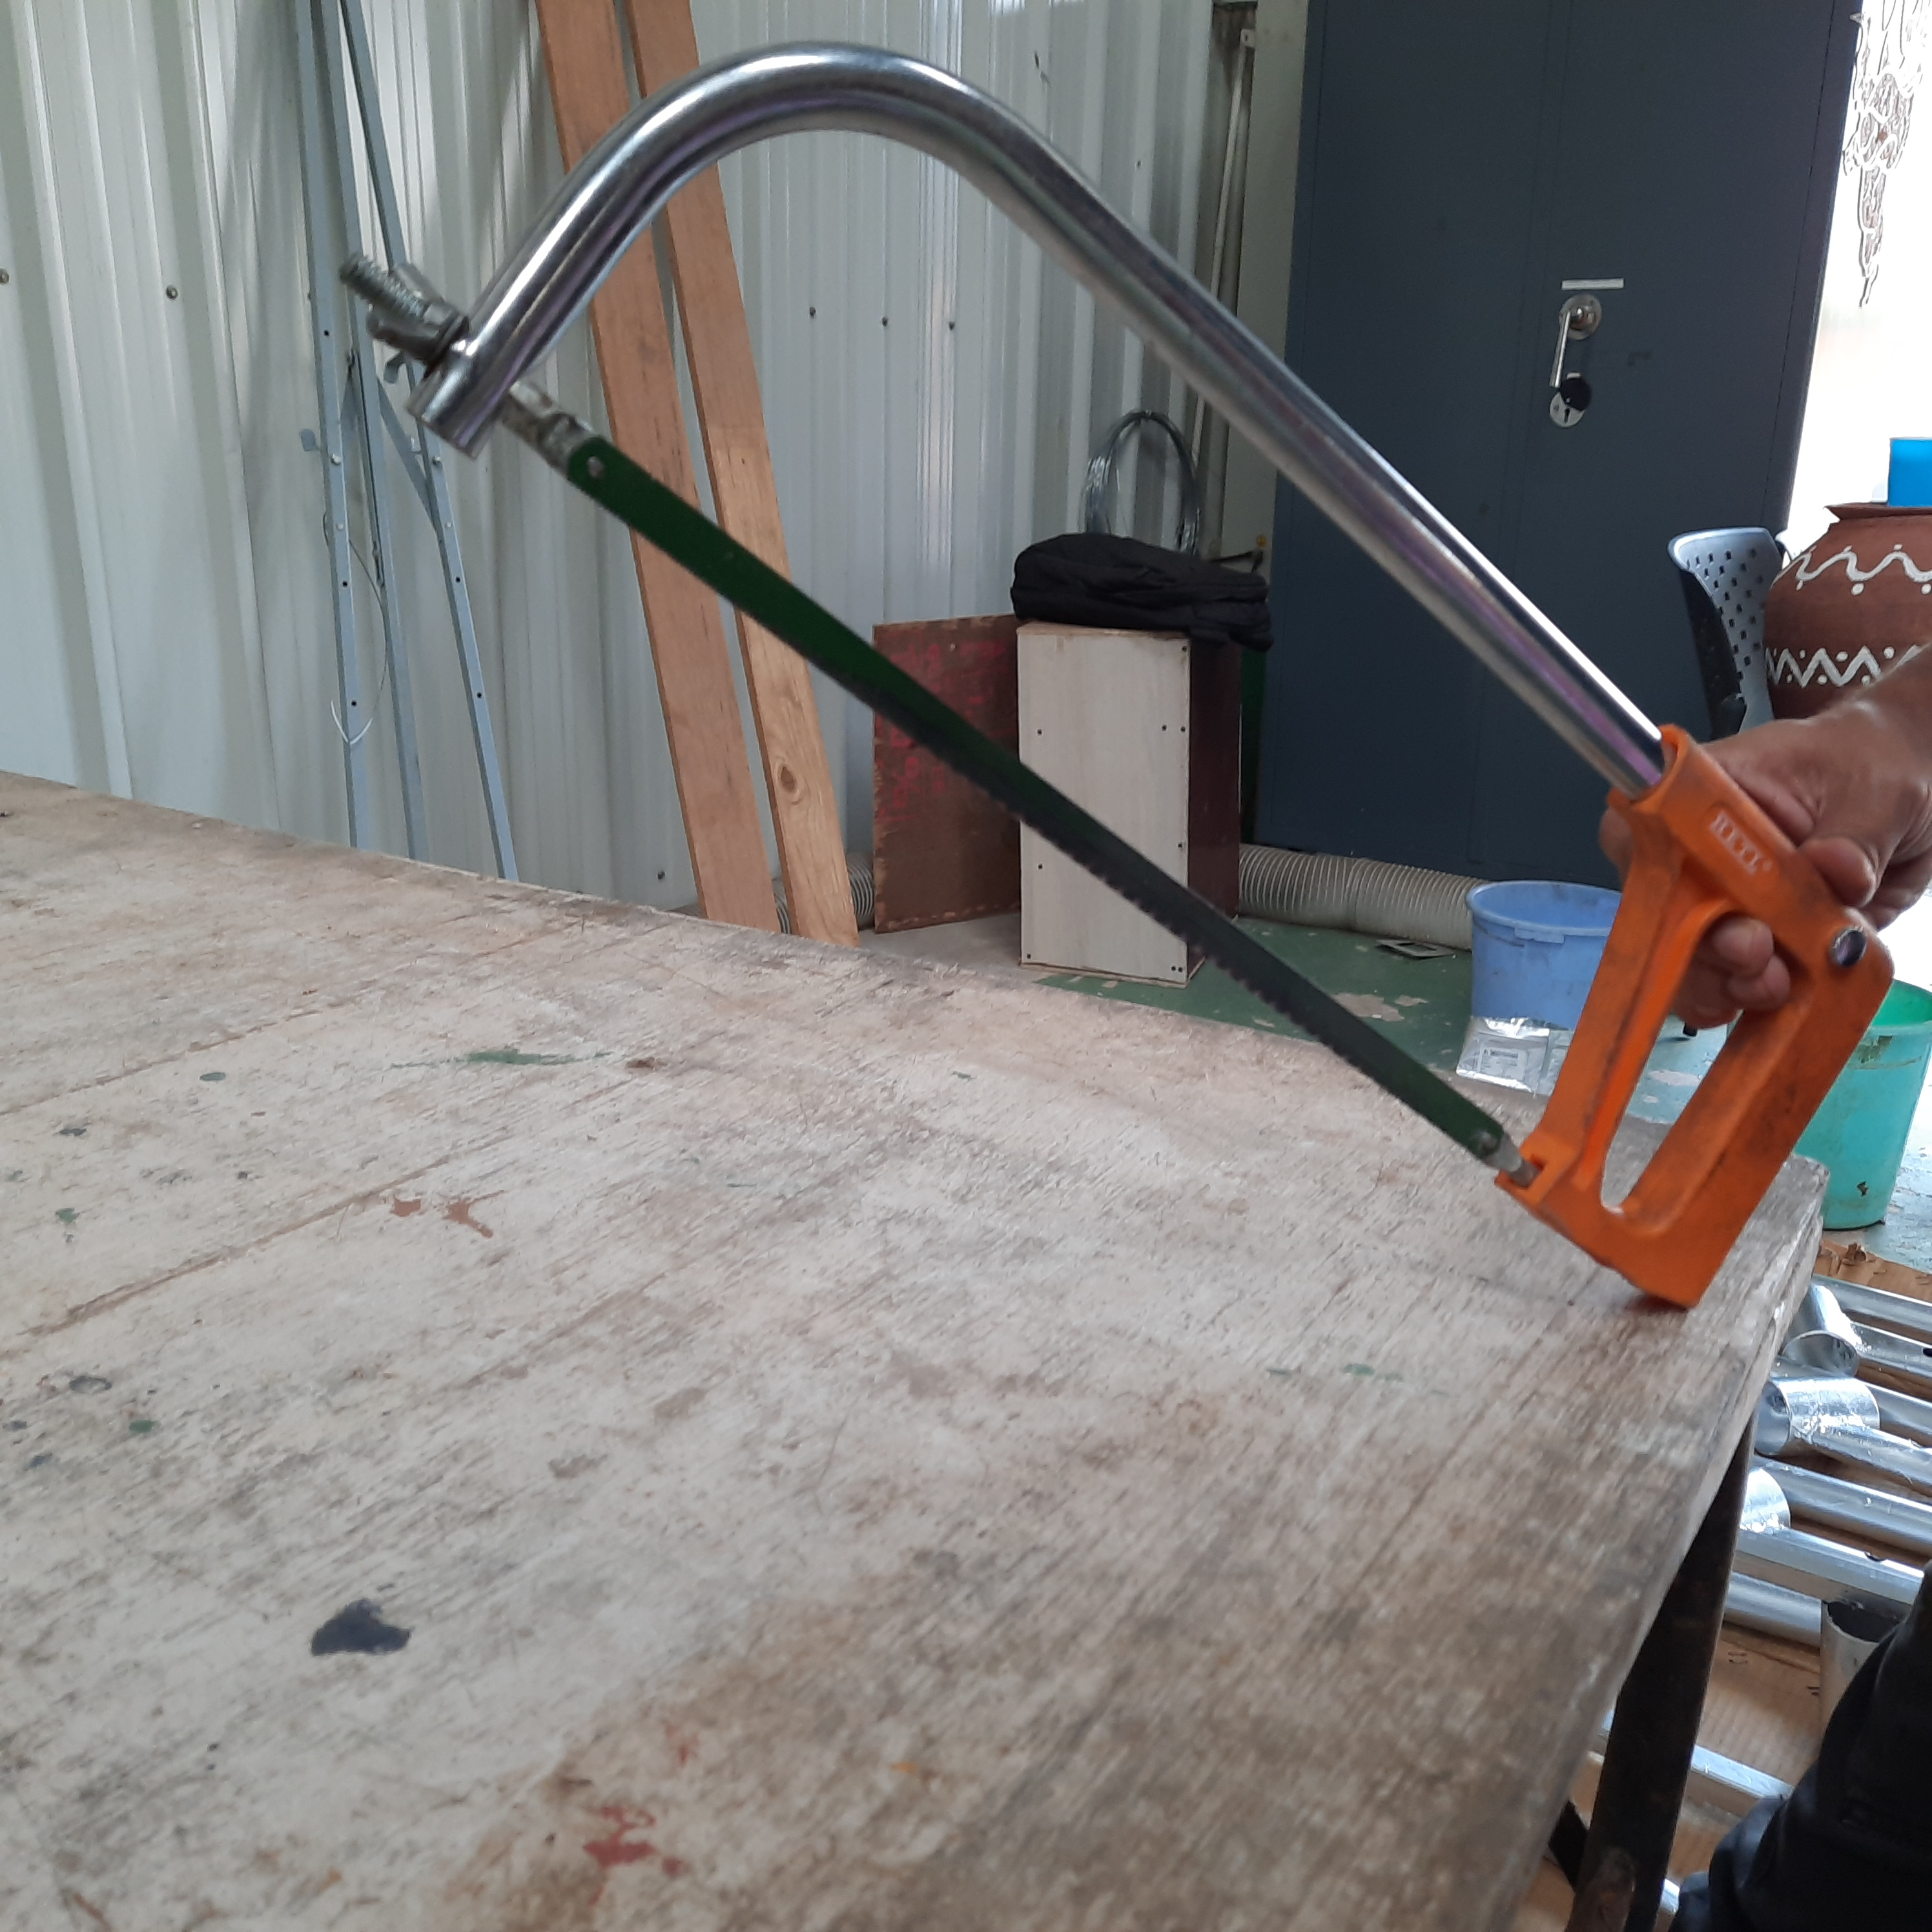Hexaframe: (336, 30, 1914, 1353)
